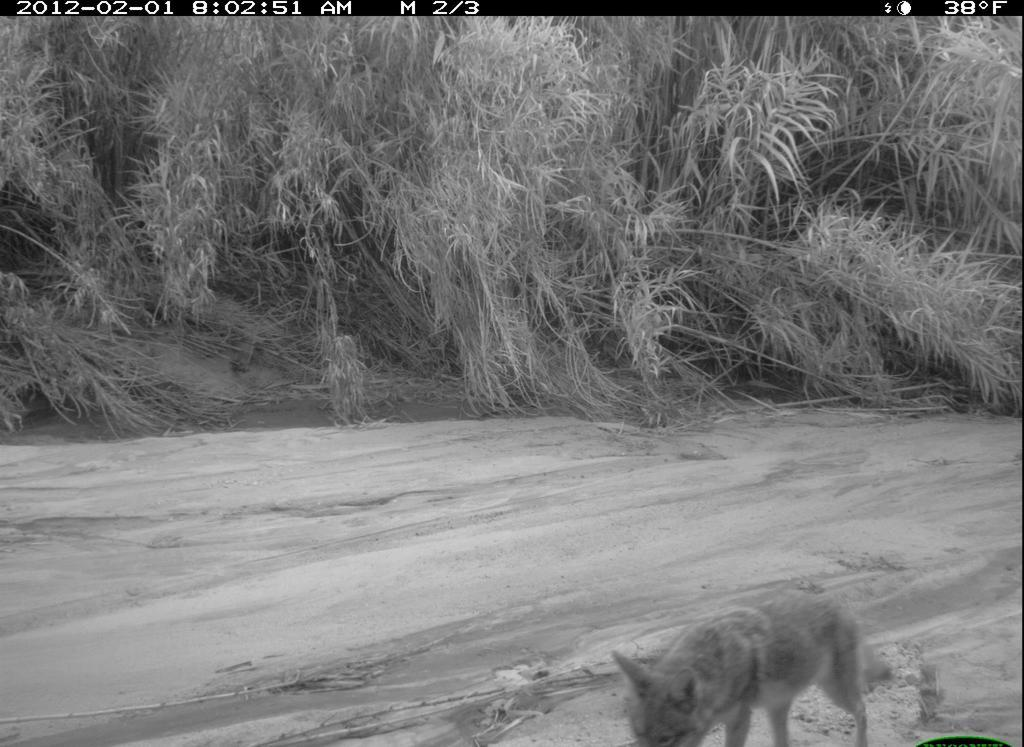coyote: (610, 584, 893, 740)
